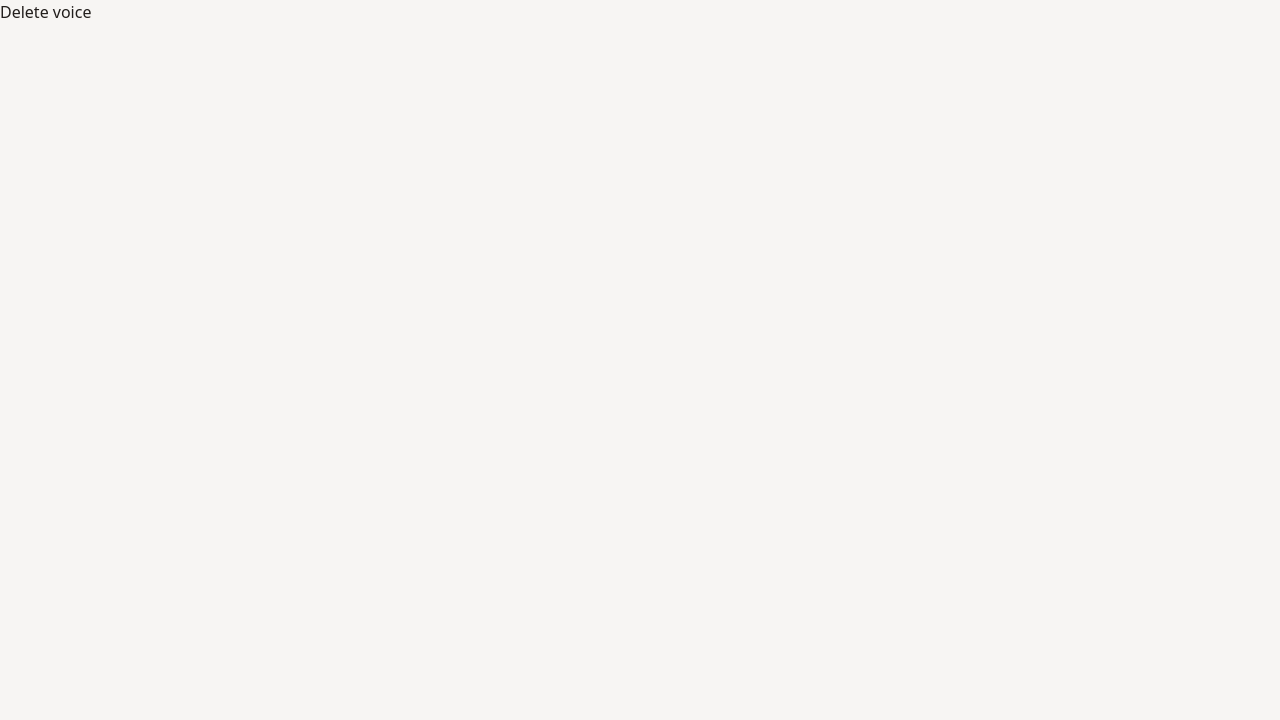
Scenario: AlertDialog › cancel dismisses without confirming
The width and height of the screenshot is (1280, 720).
Click the button "Delete voice": (46, 12) [0,0,92,24]
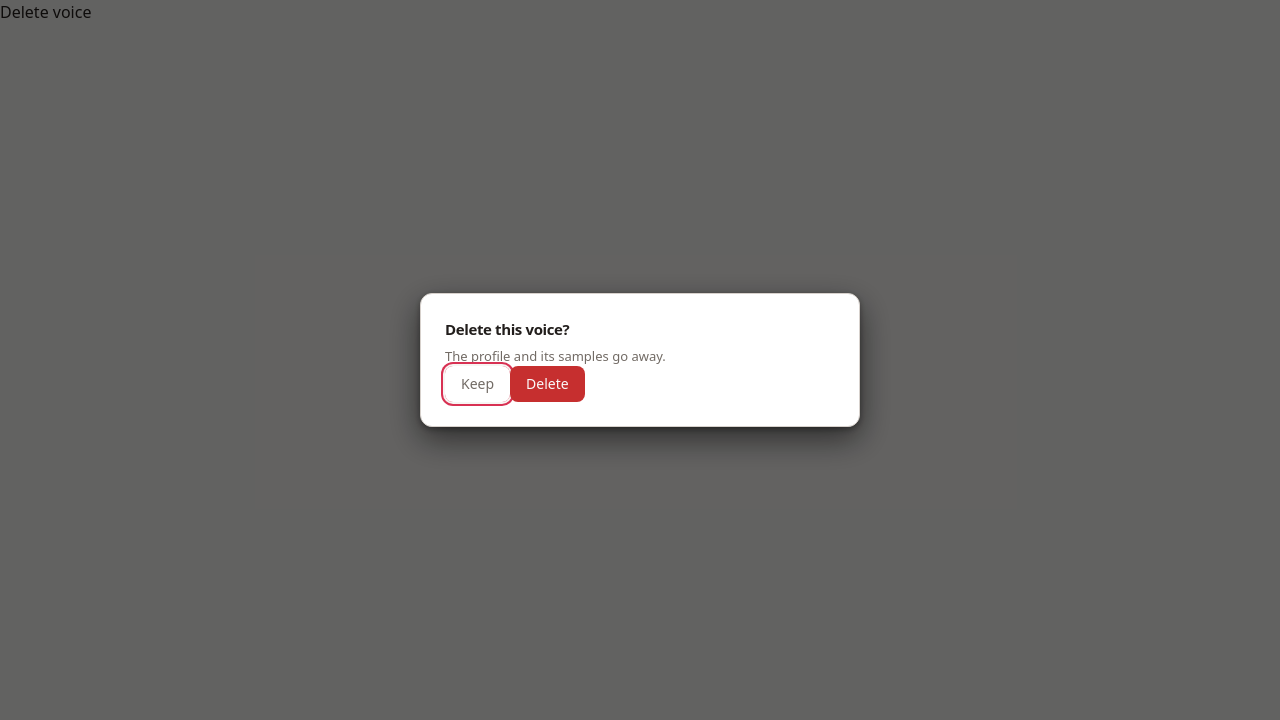
Click the button "Keep": (478, 384) [445,366,510,402]
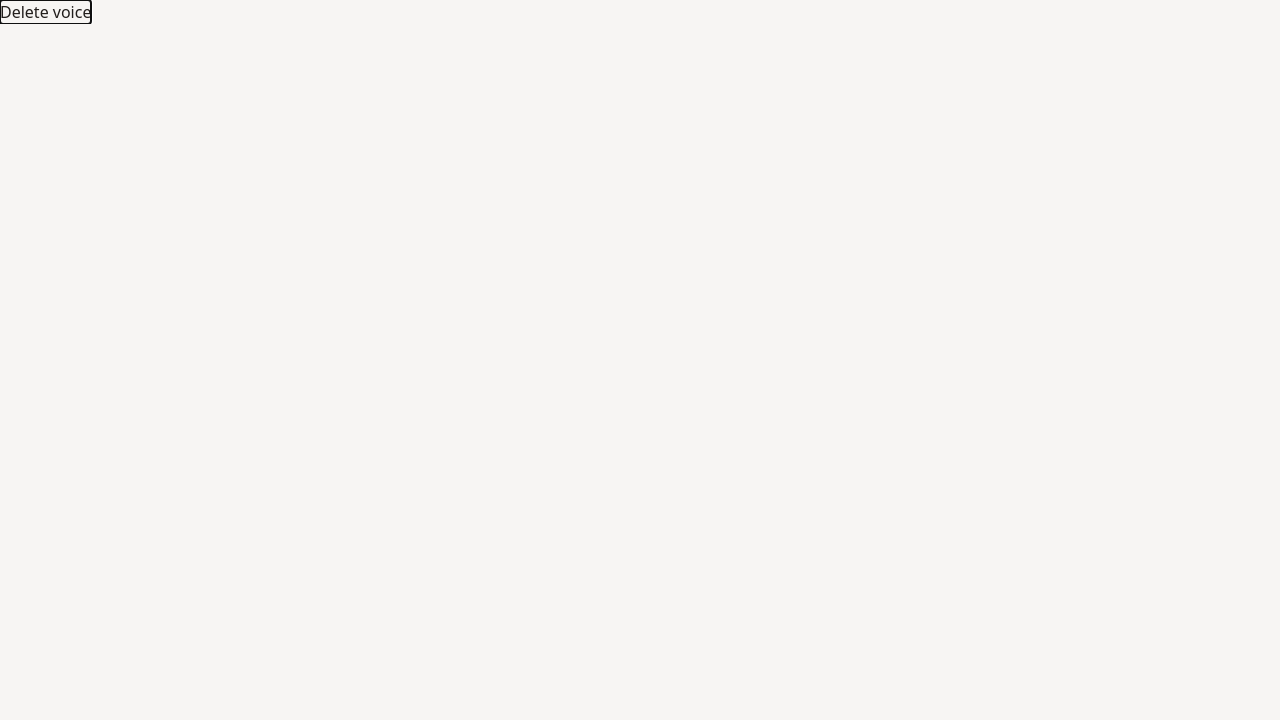
Expected: the dialog is gone
